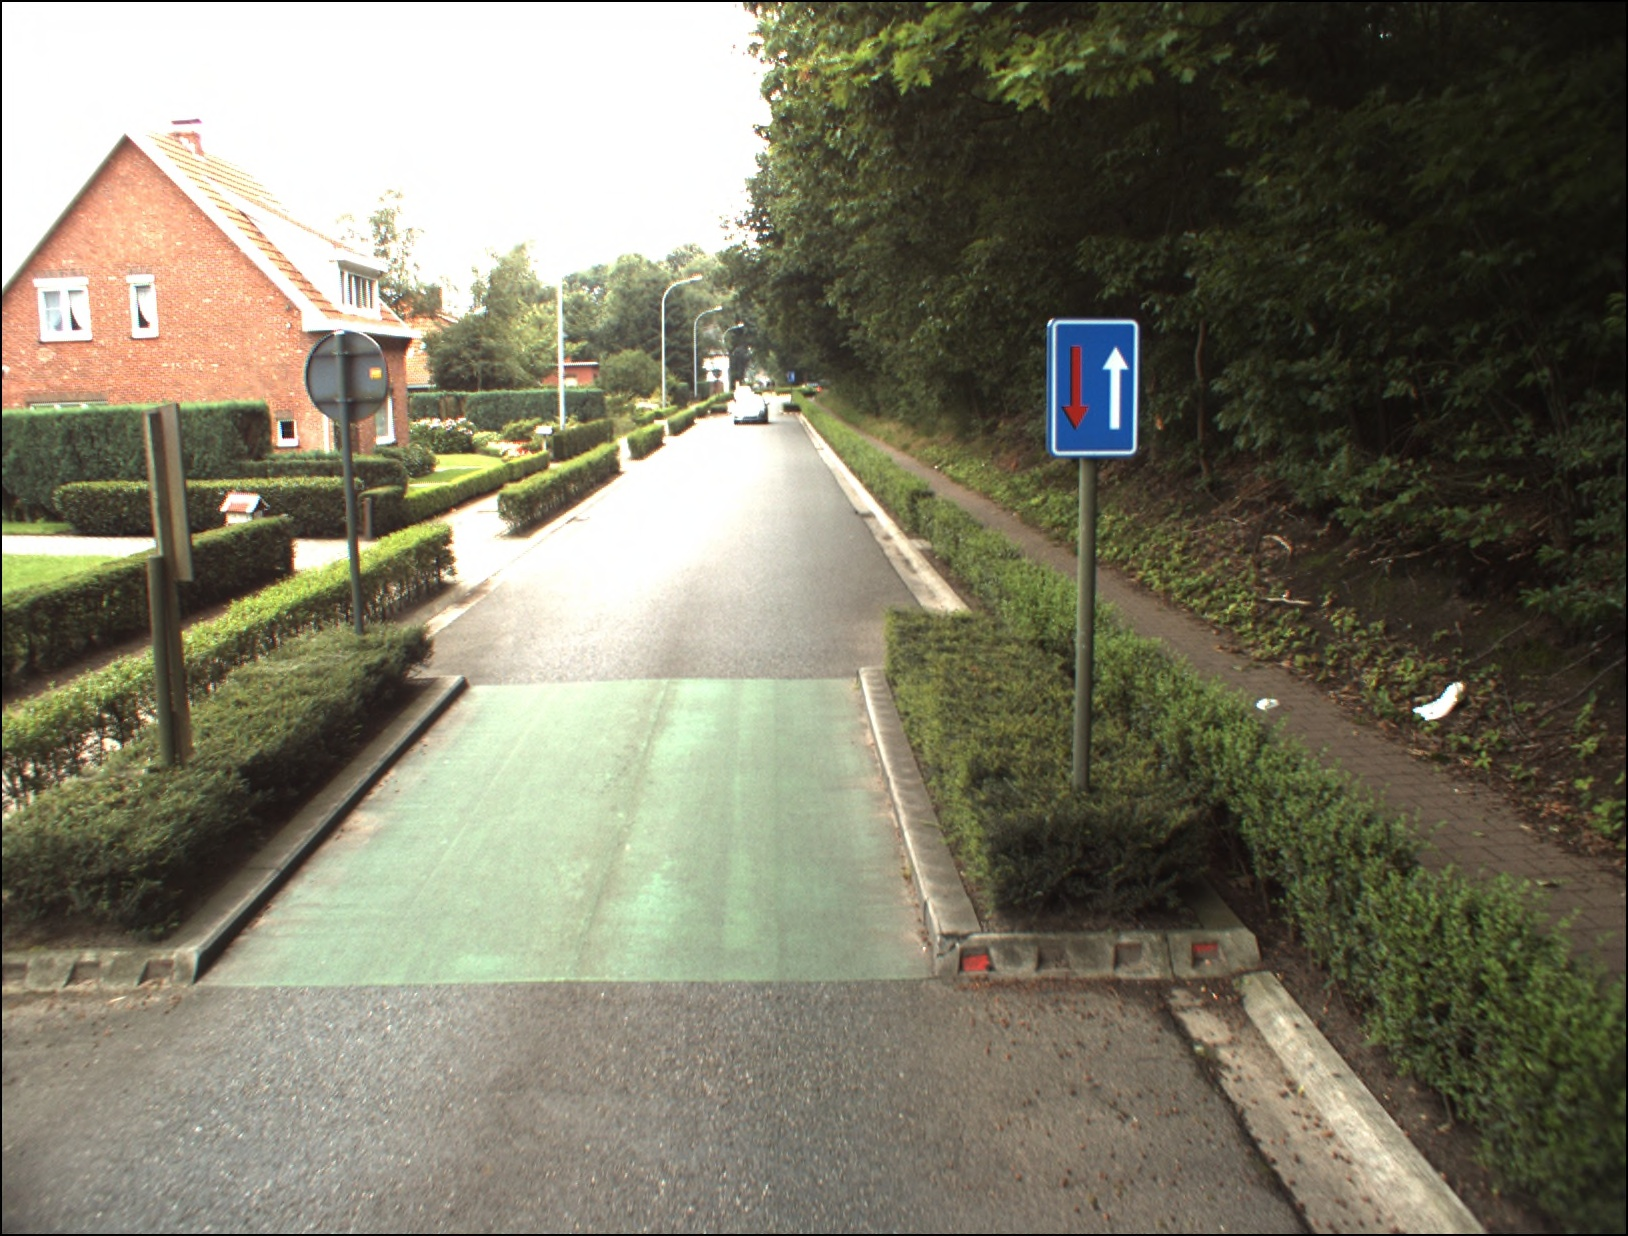roadnarrow1: (1046, 318, 1135, 456)
